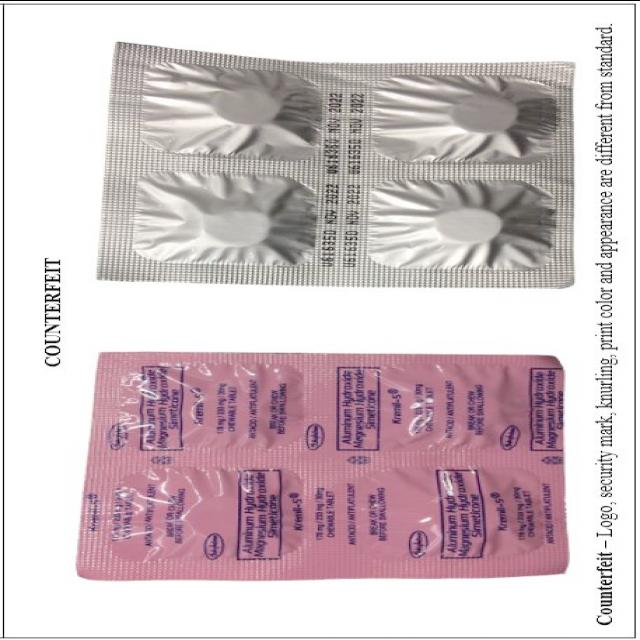counterfeit: (74, 351, 564, 584), (89, 56, 578, 289)
